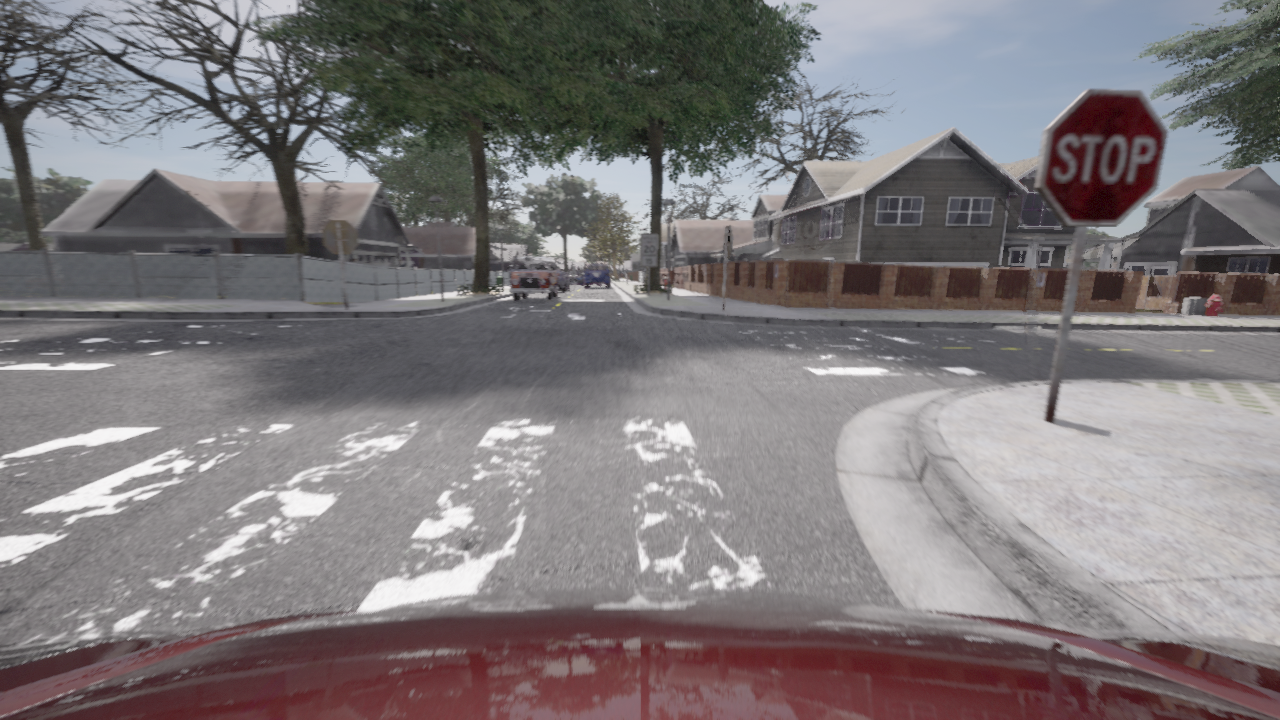cyclist: (0, 588, 1279, 719), (507, 256, 557, 300), (584, 265, 610, 287), (556, 270, 568, 292), (566, 271, 583, 285), (597, 283, 598, 285)
